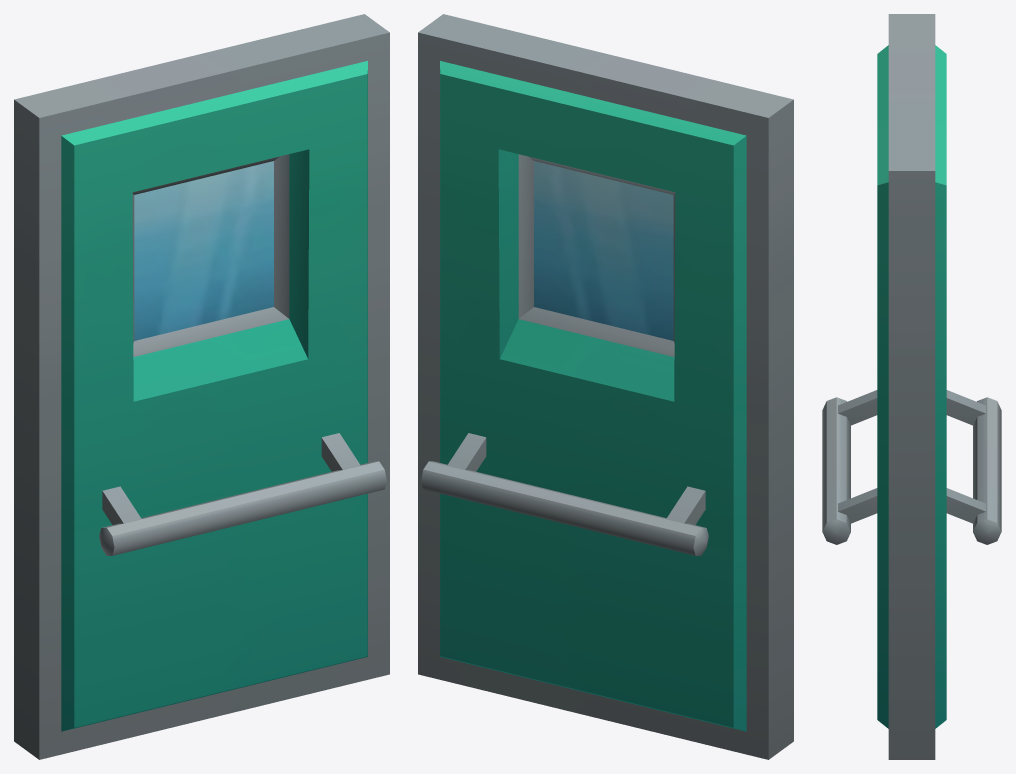
The model's file is kkr.door_a.glb.
The picture shows the model from 3 angles, left to right: view 1: azimuth 30°, elevation 25°; view 2: azimuth 150°, elevation 25°; view 3: azimuth 270°, elevation 25°; orthographic projection. The views are drawn at different scales.
Visible parts, largest first — view 1: door_A; view 2: door_A; view 3: door_A.
Boxes of the visible parts, <box> form: door_A: <box>14,14,389,759</box>; door_A: <box>418,14,793,759</box>; door_A: <box>822,14,1001,759</box>.
Bounding box in the file's own units: 1.19 × 2.09 × 0.5748.
1 material, 1 textured.
